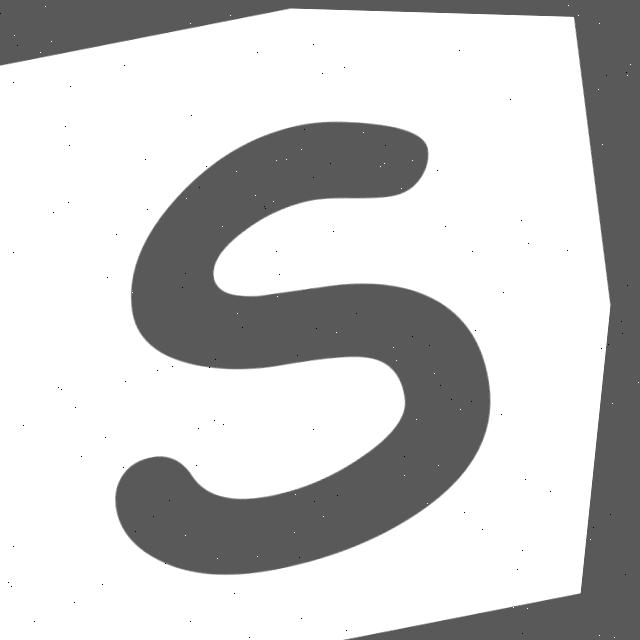S: (126, 119, 499, 572)
